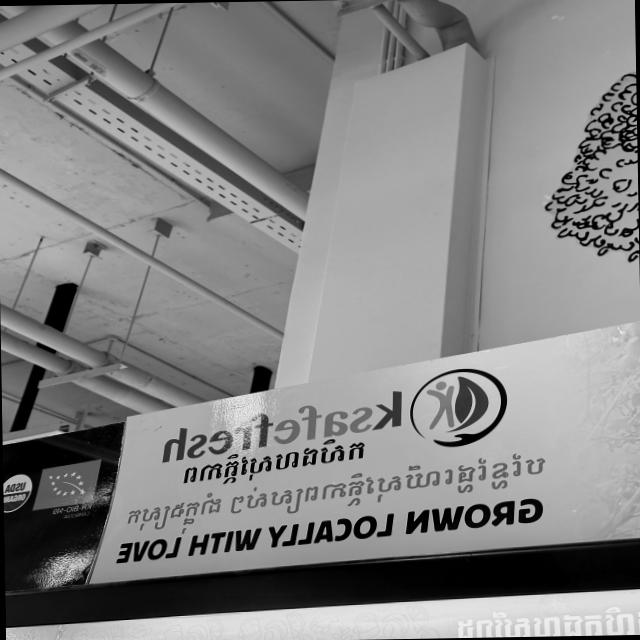1: (120, 441, 567, 535)
Yolov11kh: (171, 432, 382, 490)
